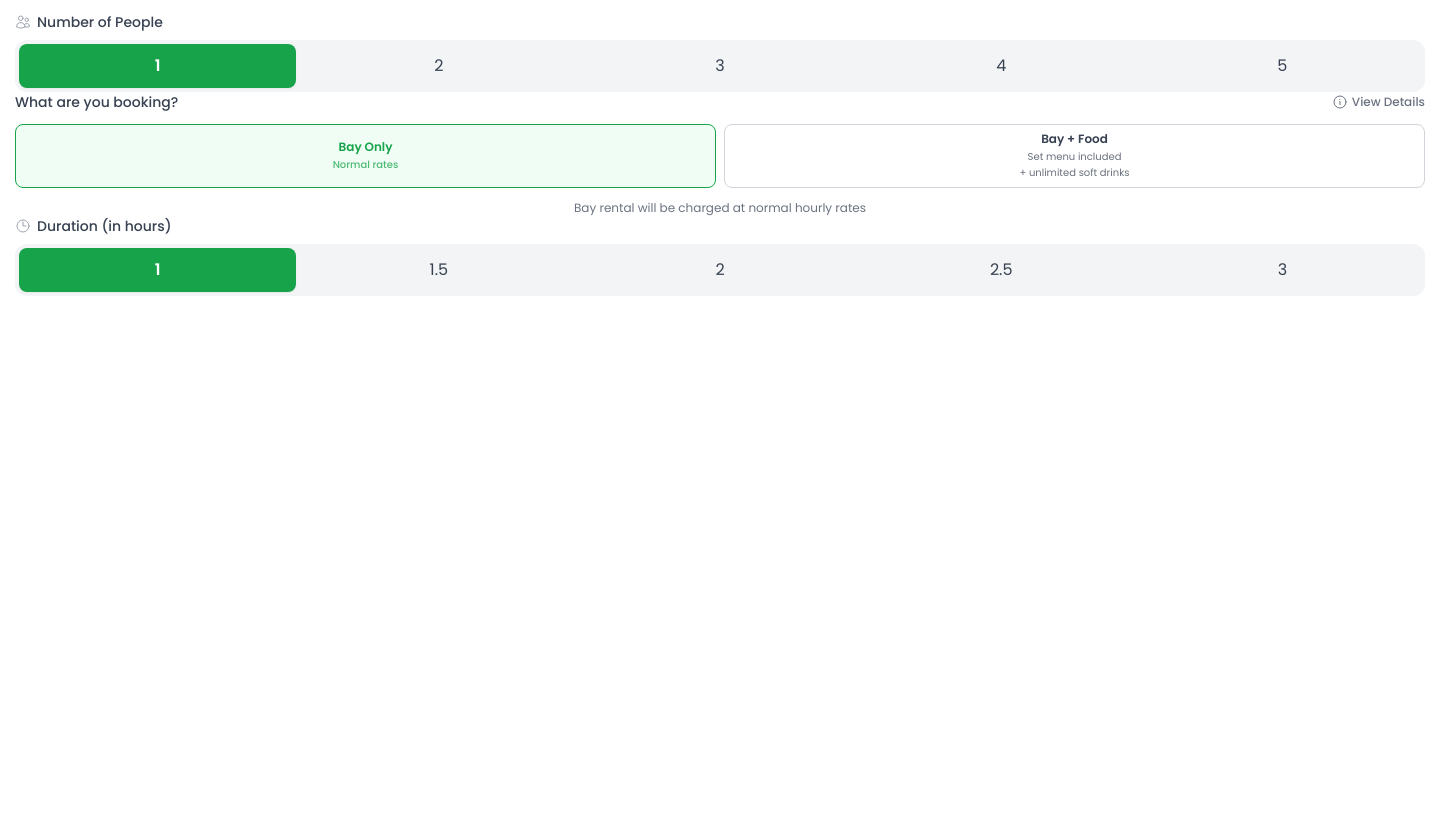
the card figures come from the live booking, not the static data › a party of one sees the price once, and exactly two money lines
The image size is (1440, 818).
Click the button "Bay + Food Set menu included + unlimited soft drinks": {"x": 1074, "y": 156} [724,124,1425,188]
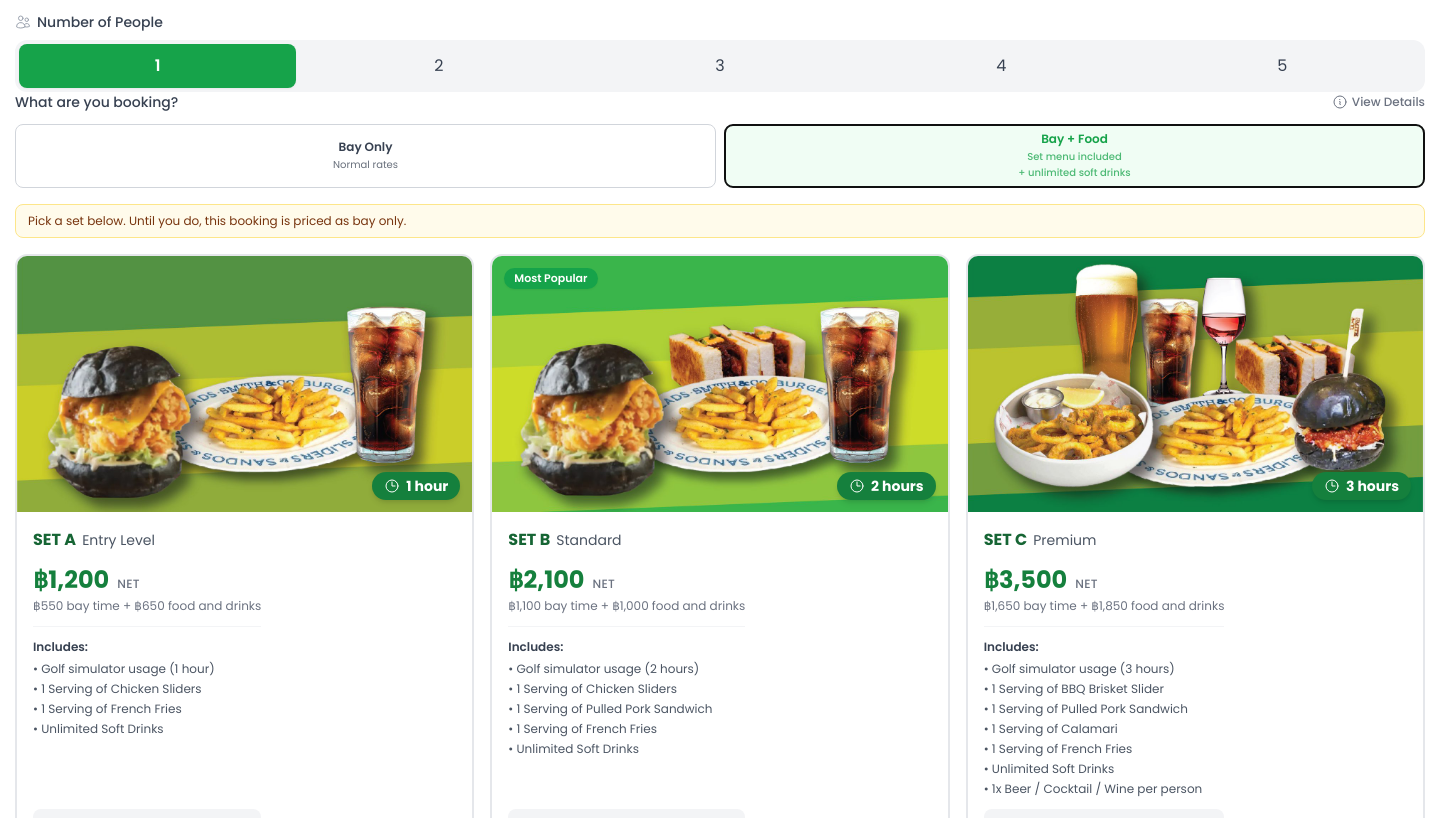
expect the text "฿1,200" is shown once: met, box [33,564,109,596]
expect the 1st text "NET" is shown: met, box [117,576,140,592]
expect the text "฿550 bay time + ฿650 food and drinks" is shown: met, box [33,598,261,614]
